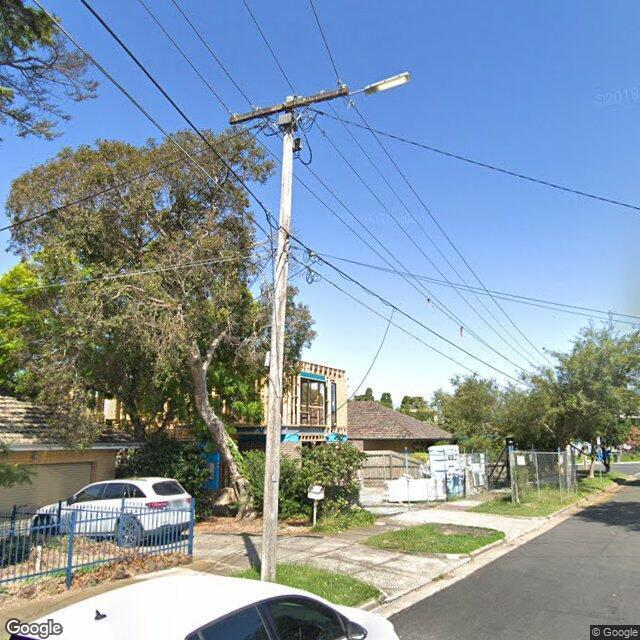crossarm: (229, 80, 350, 125)
streetlight: (348, 72, 412, 96)
timber-pole: (260, 95, 296, 582)
